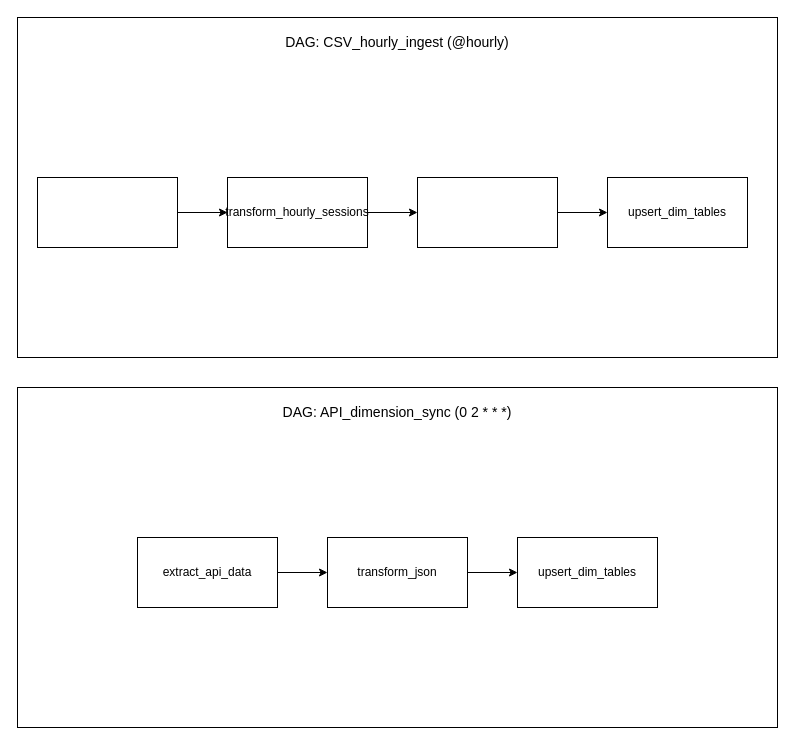
The diagram is 795 pixels wide and 745 high, and some of its shapes have lost their labels. The centre of each missing label's shape, as x and y in pixels:
extract_hourly_sessions: pixel 107 212
validate_referential_integrity: pixel 487 212
